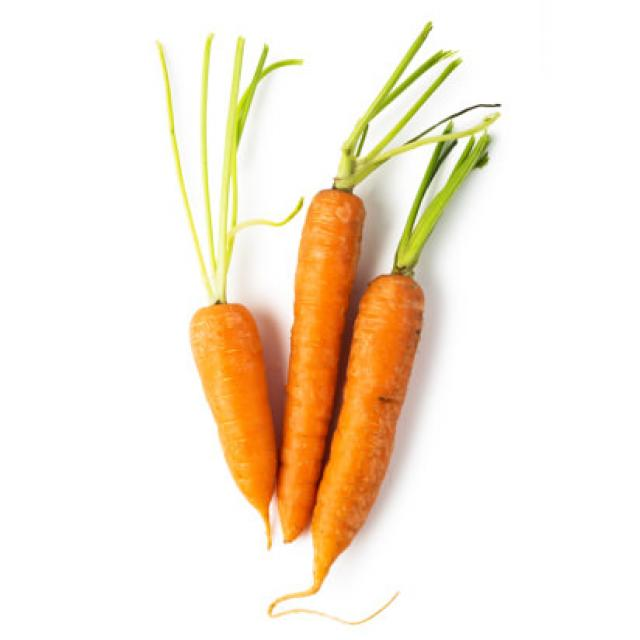Carrot: (307, 270, 427, 596), (281, 187, 364, 555), (186, 303, 283, 544)
